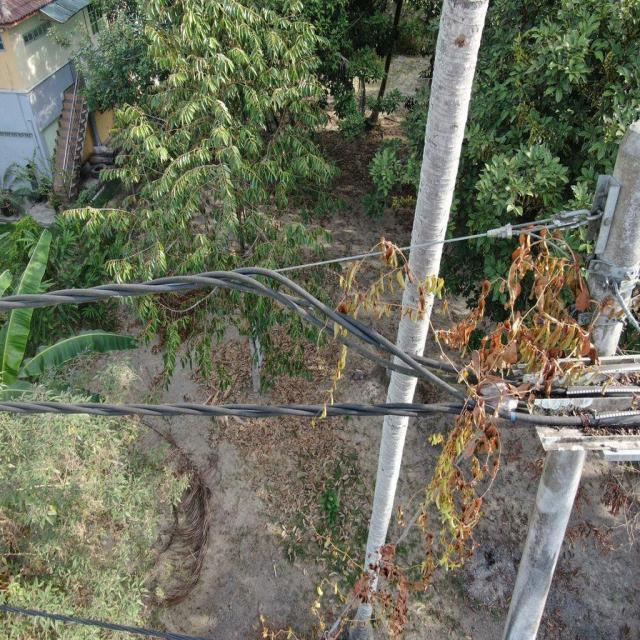light_pole: (333, 212, 598, 630)
